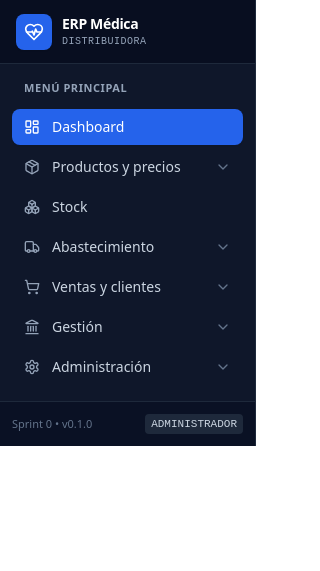
Test case: Sidebar permissions and badges › shows administrative navigation to administrators
Expected: the link "proveedores" is not shown
Expected: the link "importador" is not shown
Click the button "Abastecimiento" at (128, 246), box [12,228,243,264]
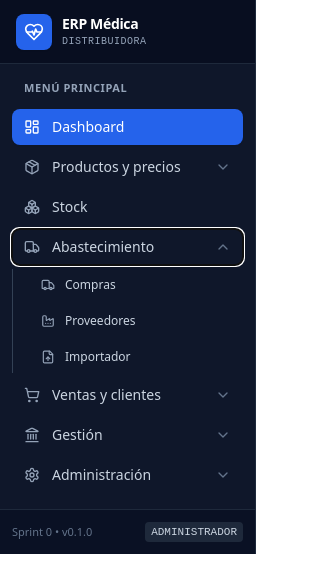
Result: the link "Compras" is shown at [41,276,116,292]
Result: the link "Proveedores" is shown at [41,312,136,328]
Result: the link "Importador" is shown at [41,348,130,364]
Click the button "Administración" at (128, 474), box [12,456,243,492]
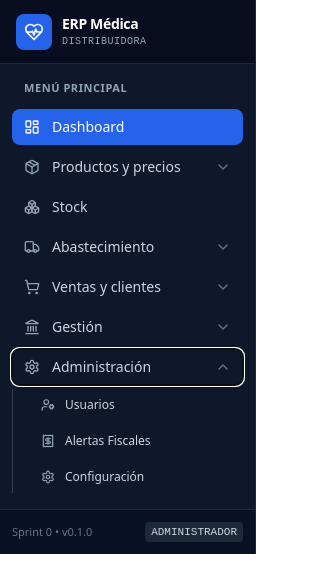
Result: the link "Usuarios" is shown at [41,396,115,412]
Result: the link "Configuración" is shown at [41,468,144,484]
Result: the button "Abastecimiento" is collapsed at [12,228,243,264]
